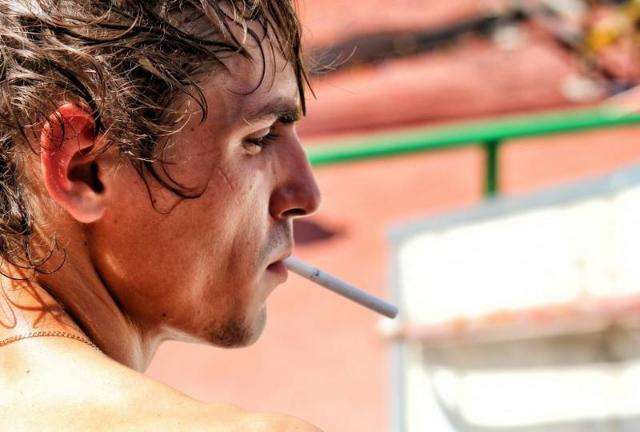Smoking: (285, 256, 401, 326)
